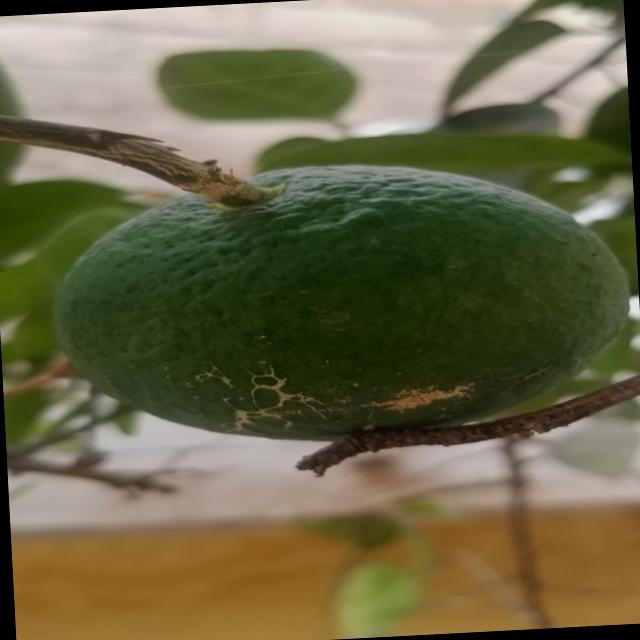agrume: (41, 139, 640, 479)
